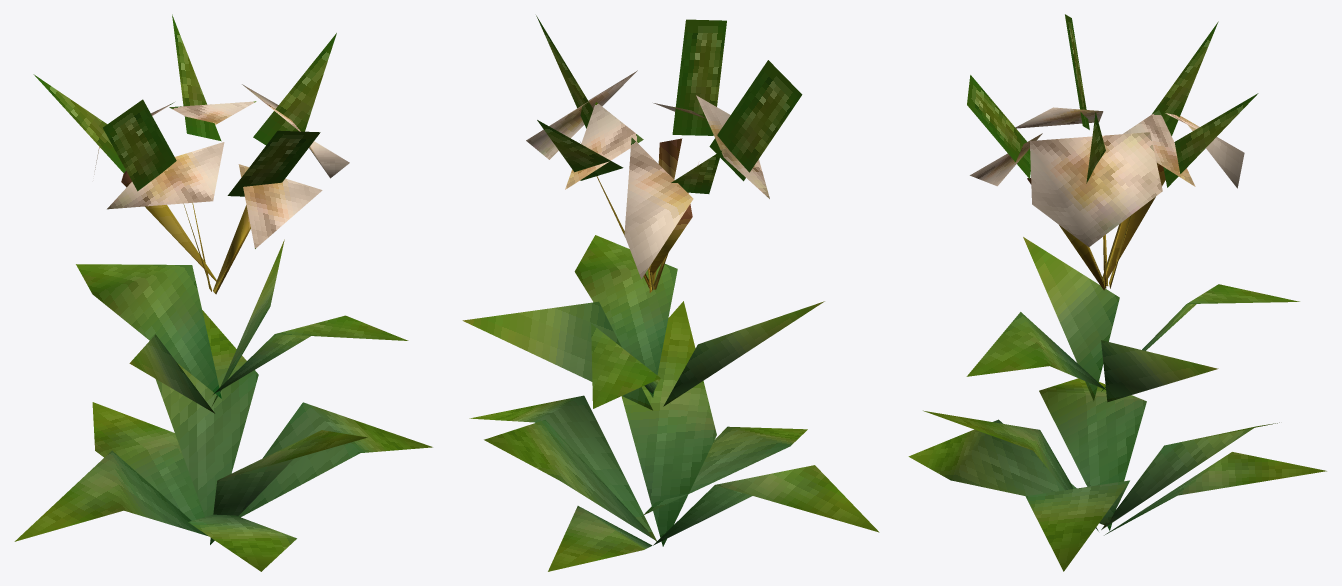
File: jungle-bulb-plant.lod2.glb
3 renders of one model, left to right at view 1: azimuth 30°, elevation 25°; view 2: azimuth 150°, elevation 25°; view 3: azimuth 270°, elevation 25°, orthographic. The views are drawn at different scales.
Visible parts, largest first — view 1: SM_JunglePlants_LightBulbPlant_LOD0.mo_MI_JunglePlants_Light; view 2: SM_JunglePlants_LightBulbPlant_LOD0.mo_MI_JunglePlants_Light; view 3: SM_JunglePlants_LightBulbPlant_LOD0.mo_MI_JunglePlants_Light.
Part boxes in pixels (x1,y1,x2,y2): SM_JunglePlants_LightBulbPlant_LOD0.mo_MI_JunglePlants_Light: (14, 14, 432, 571); SM_JunglePlants_LightBulbPlant_LOD0.mo_MI_JunglePlants_Light: (462, 15, 879, 571); SM_JunglePlants_LightBulbPlant_LOD0.mo_MI_JunglePlants_Light: (908, 14, 1326, 571).
Size of the model in its own units: 1.66 by 1.87 by 1.48.
1 material, 1 textured.
